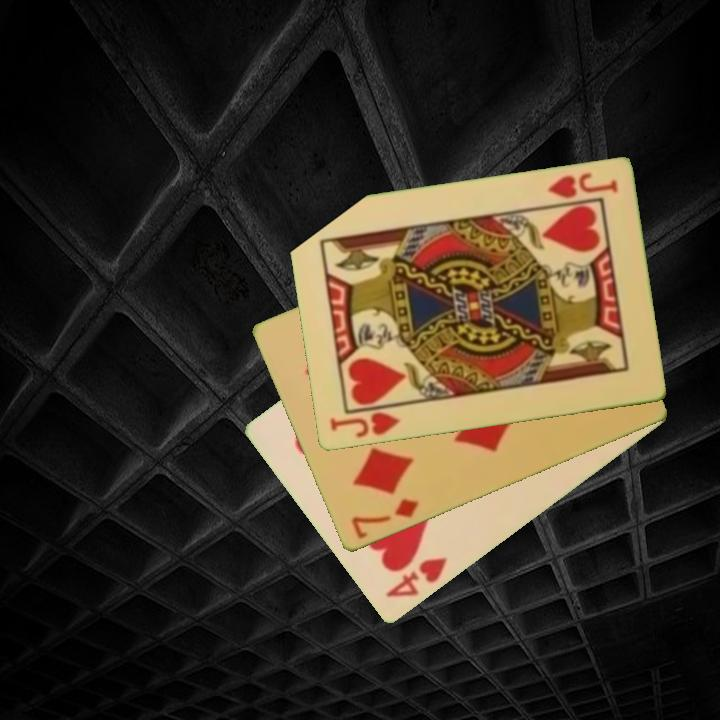4h: (382, 554, 451, 601)
7d: (348, 495, 421, 542)
Jh: (326, 409, 403, 441), (543, 170, 620, 202)
